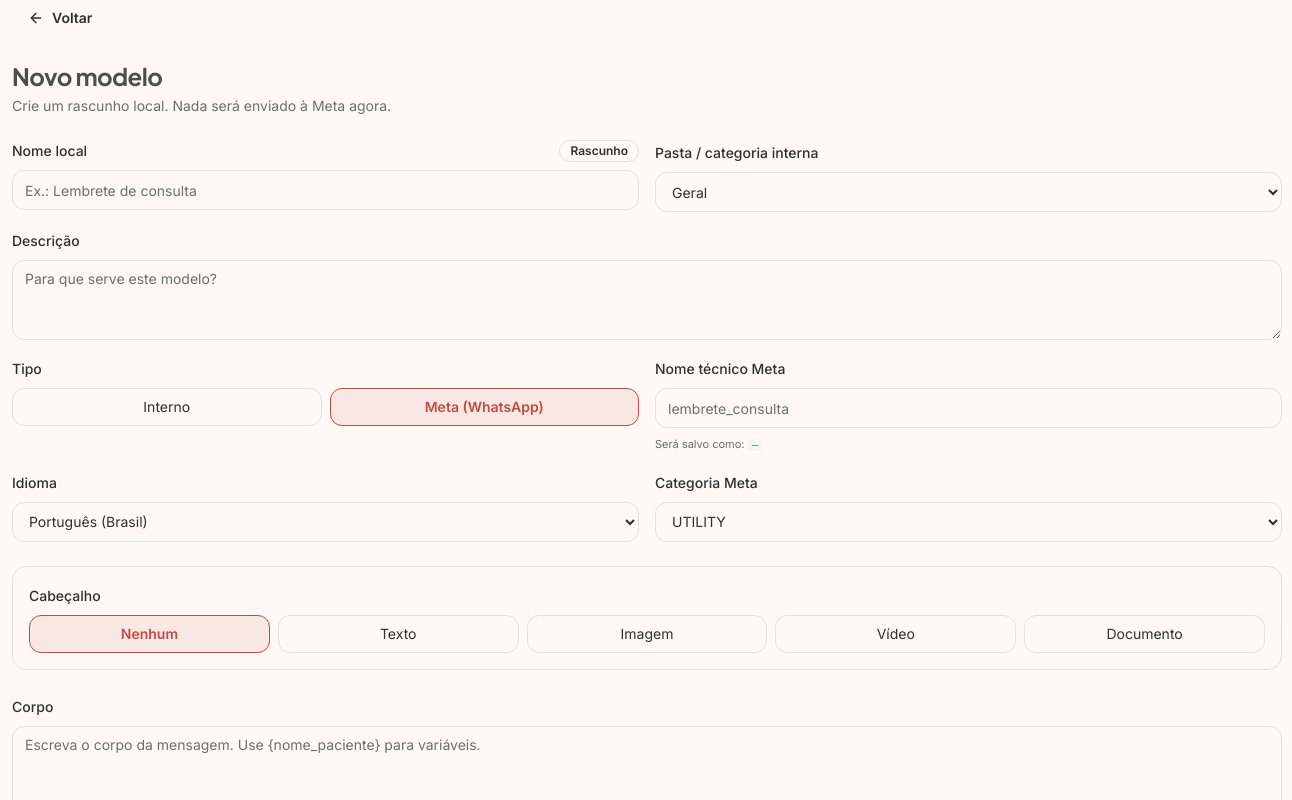
MessageTemplateNew › blocks submit when the body is empty
In the field labelled "Nome local": coordinates (326, 190) [12,170,639,210], type "Sem corpo"
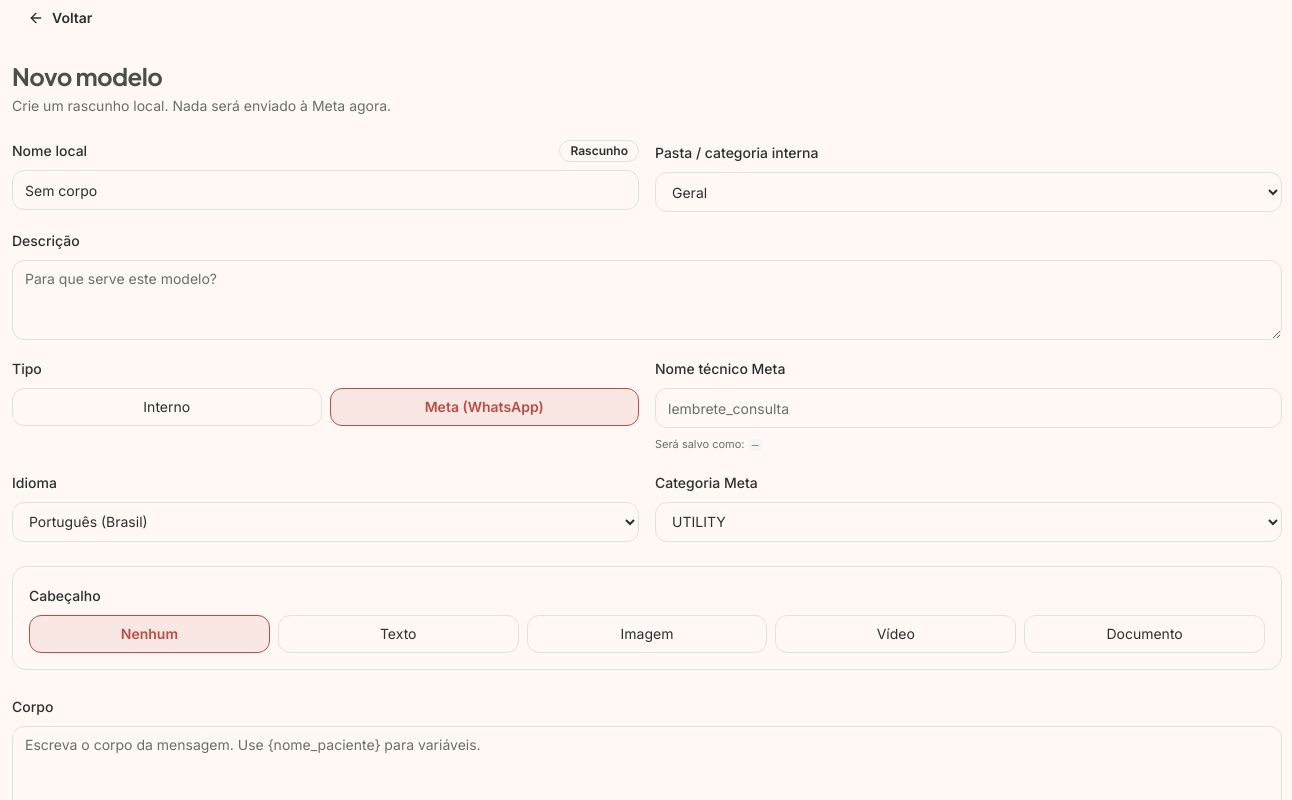
In the field labelled "Nome técnico Meta": coordinates (968, 408) [655,388,1282,428], type "sem_corpo"
(page scrolled)
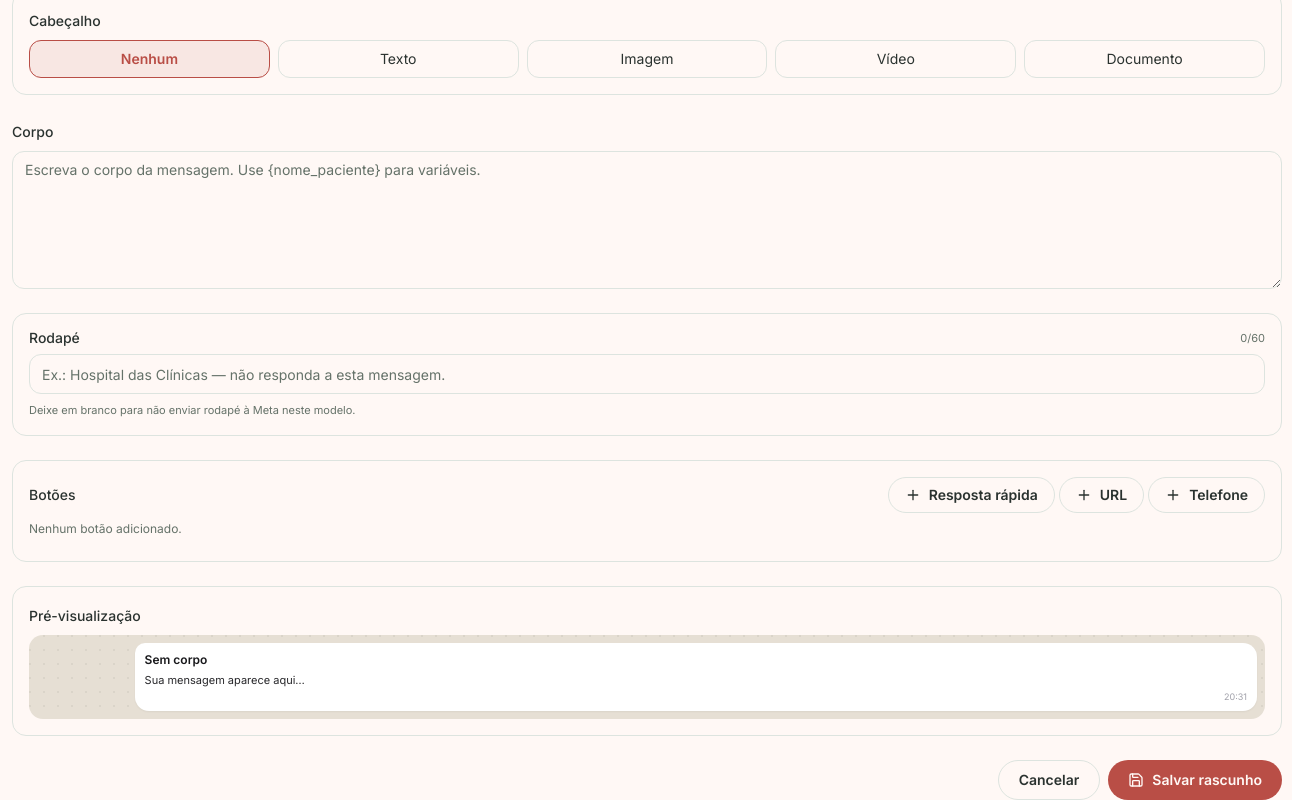
Click the button "Salvar rascunho": coordinates (1195, 780) [1108,760,1282,799]
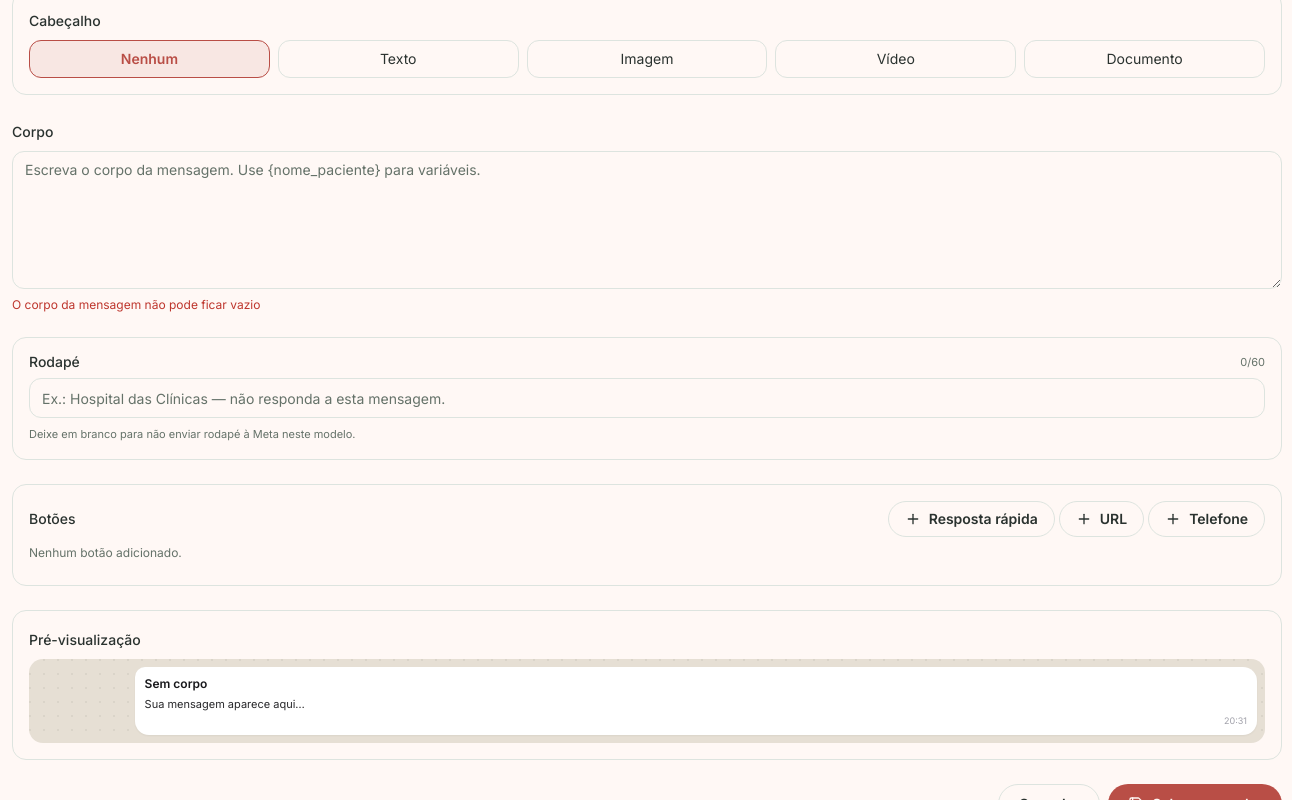
Now the text "O corpo da mensagem não pode ficar vazio" is shown, box [12,296,260,312]
